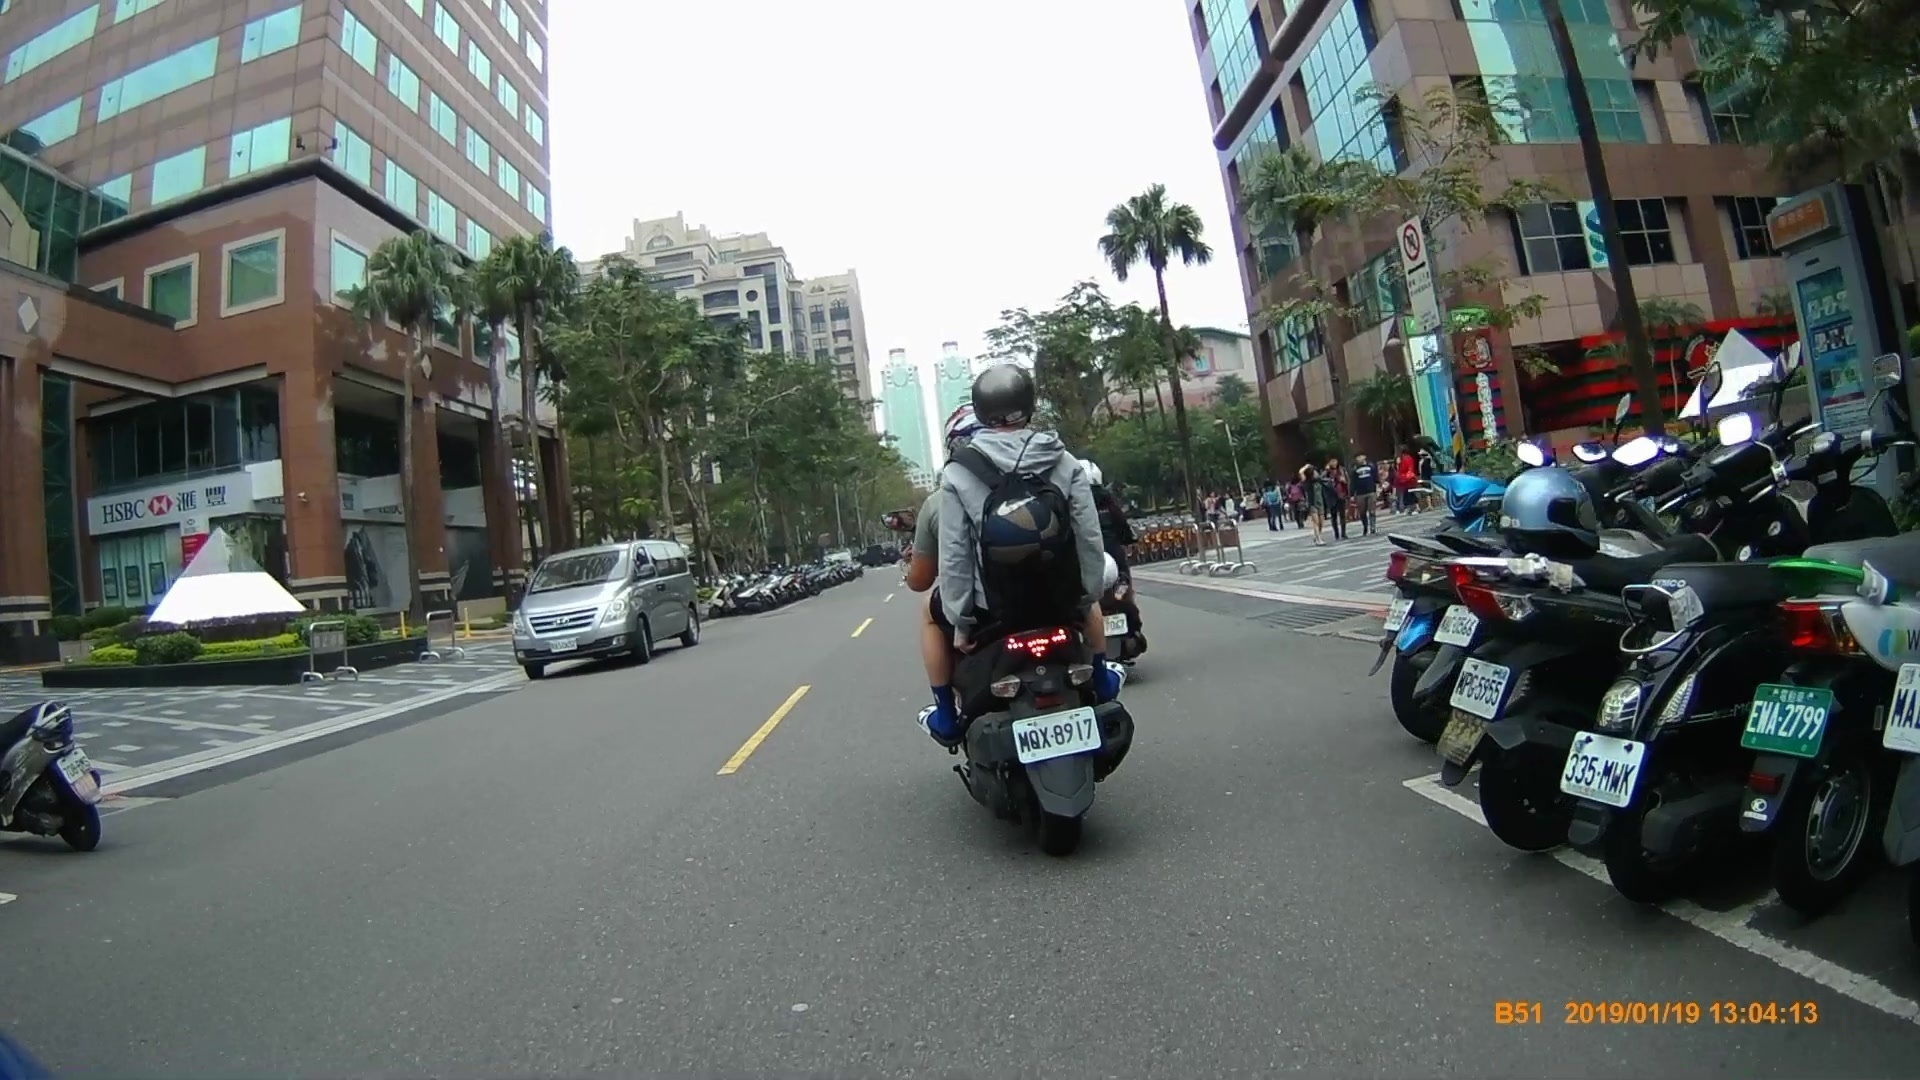License_plate: (1555, 722, 1645, 806), (1741, 683, 1829, 759), (1004, 706, 1109, 759), (1451, 653, 1510, 722)
